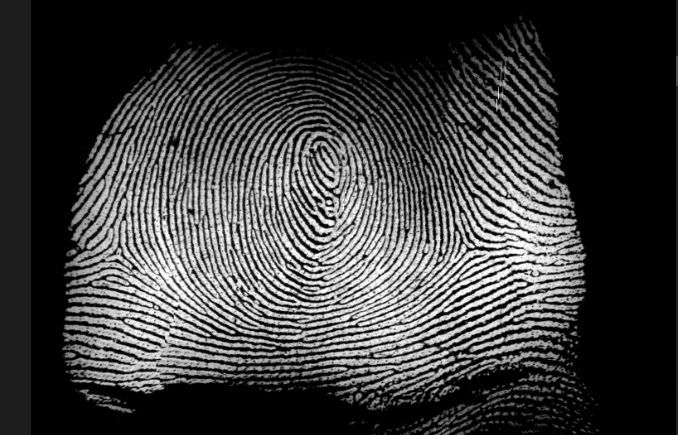nucelo: (299, 134, 341, 186)
verticilo: (100, 238, 134, 272), (450, 234, 489, 262)
